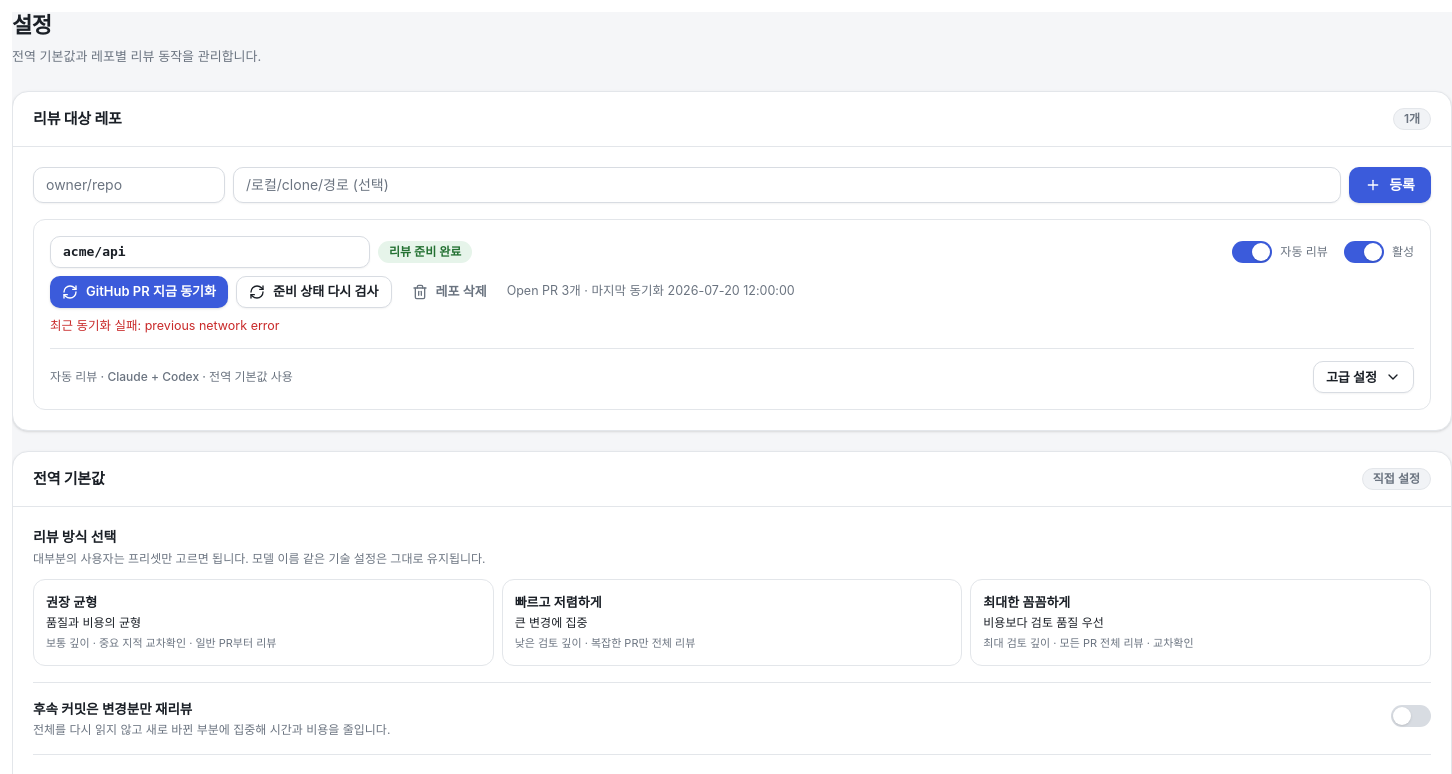
Test case: synchronizes repository PRs and shows polling status
Check: the text "Open PR 3개 · 마지막 동기화 2026-07-20 12:00:00" is shown, box x1=507 y1=282 x2=795 y2=302
Check: the text "최근 동기화 실패: previous network error" is shown, box x1=50 y1=318 x2=280 y2=333
Step 1. Click the button "GitHub PR 지금 동기화" → (139, 292), box x1=50 y1=276 x2=228 y2=308
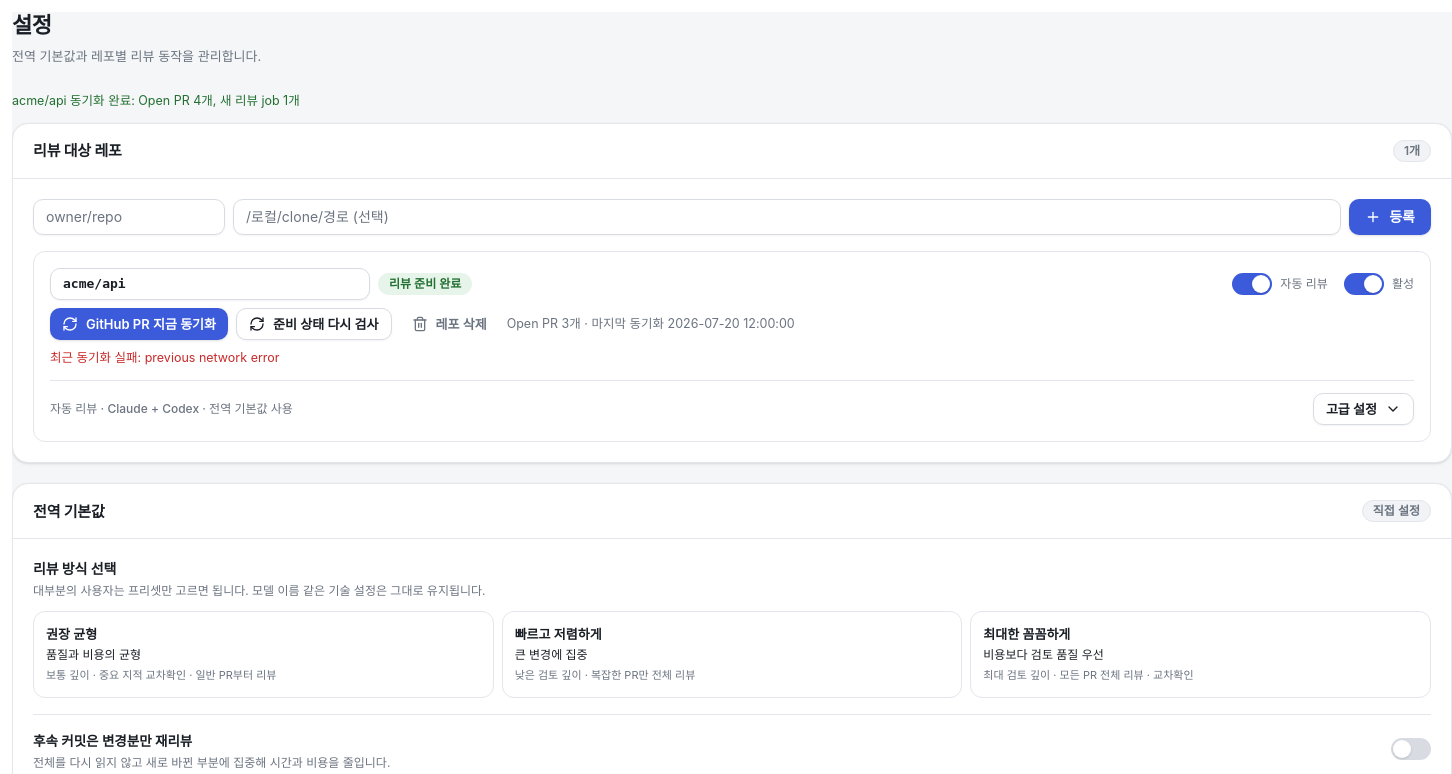
Check: the text "acme/api 동기화 완료: Open PR 4개, 새 리뷰 job 1개" is shown, box x1=12 y1=93 x2=300 y2=108
